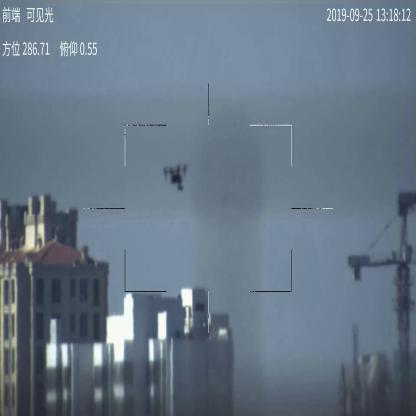uav: (161, 162, 188, 191)
